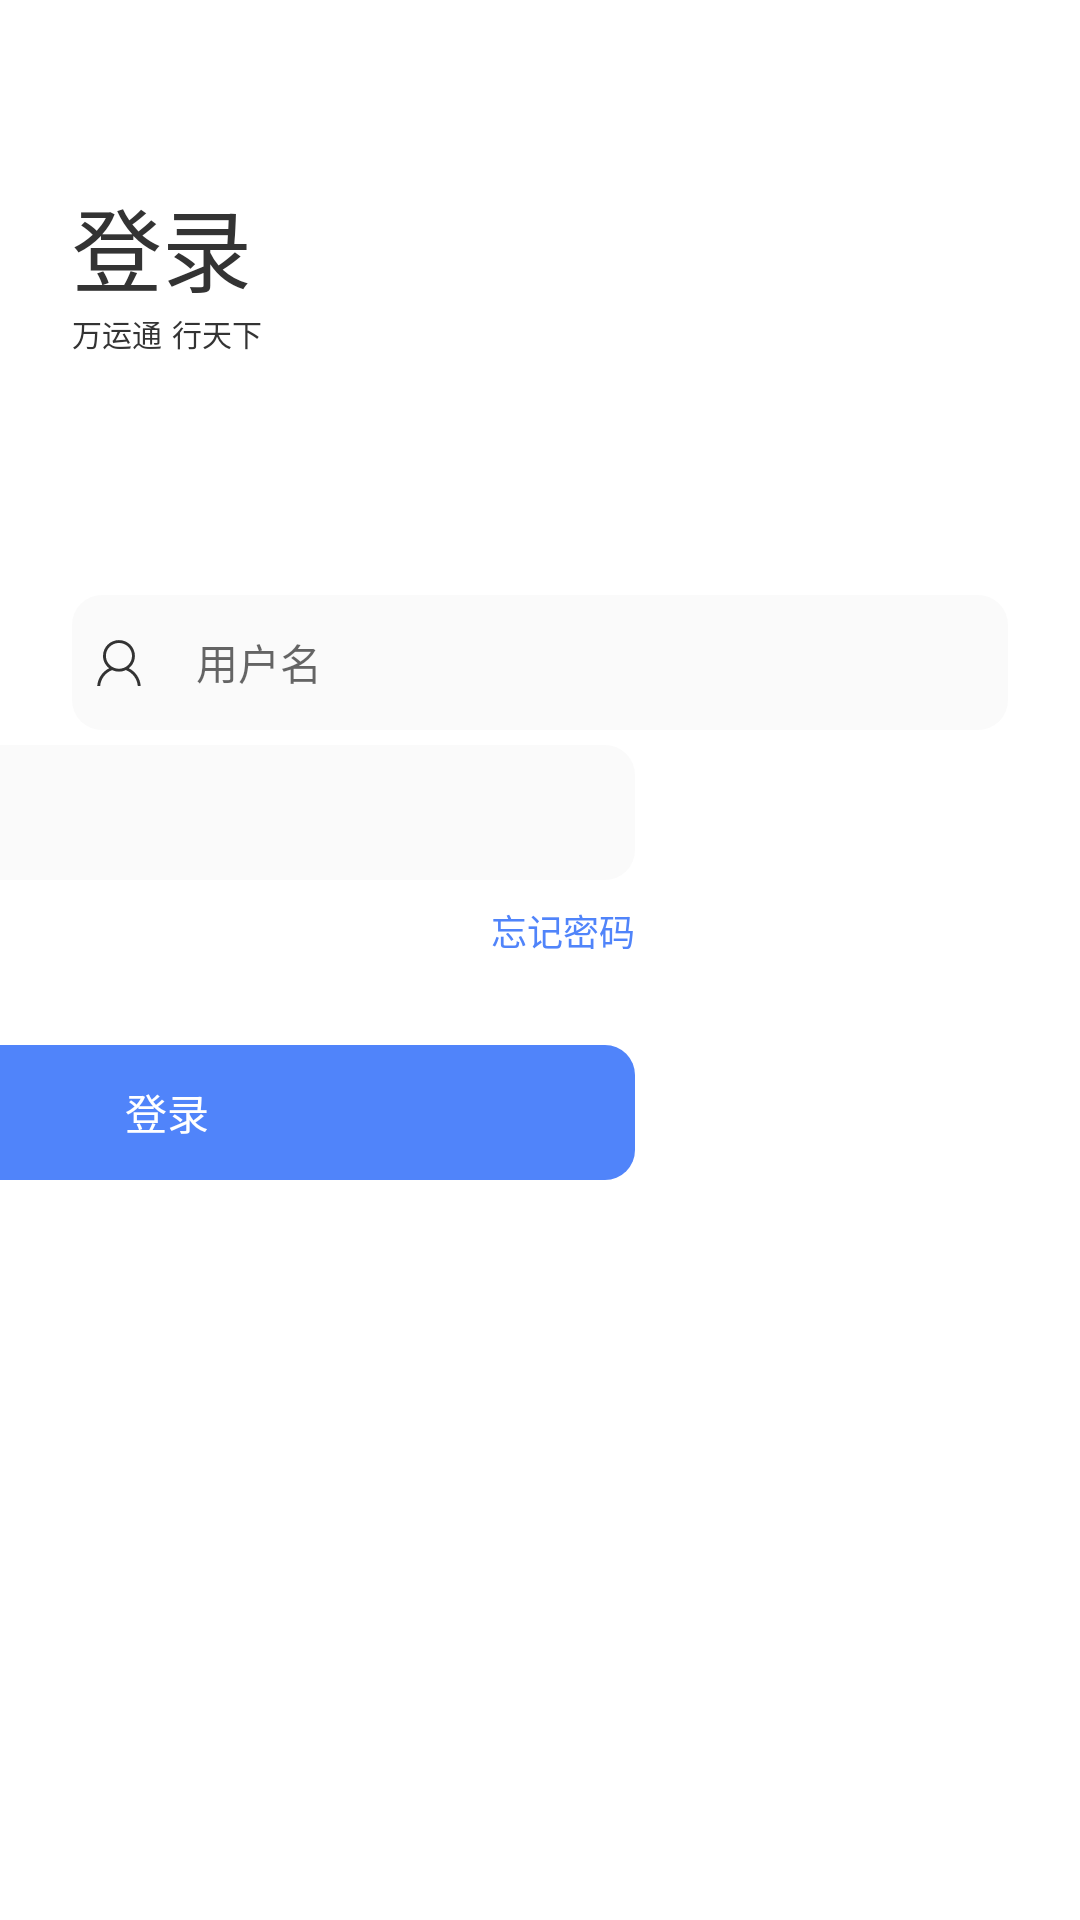

Where to tap for icons on this 1080x1920 app screen, as (x=x, y=y):
user: (x=119, y=663)
